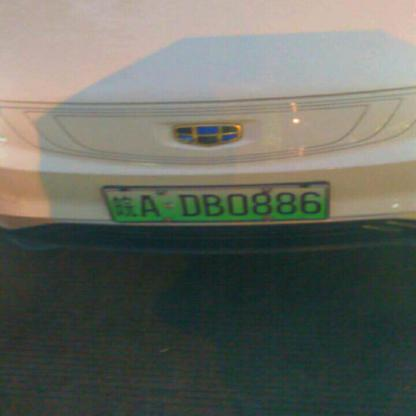lp: (105, 187, 327, 220)
